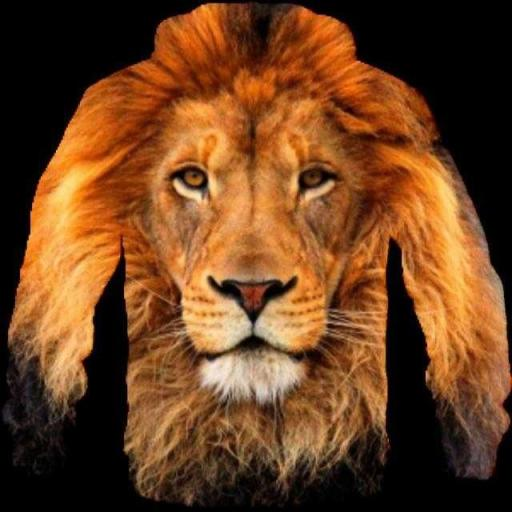Lion: (2, 0, 511, 508)
